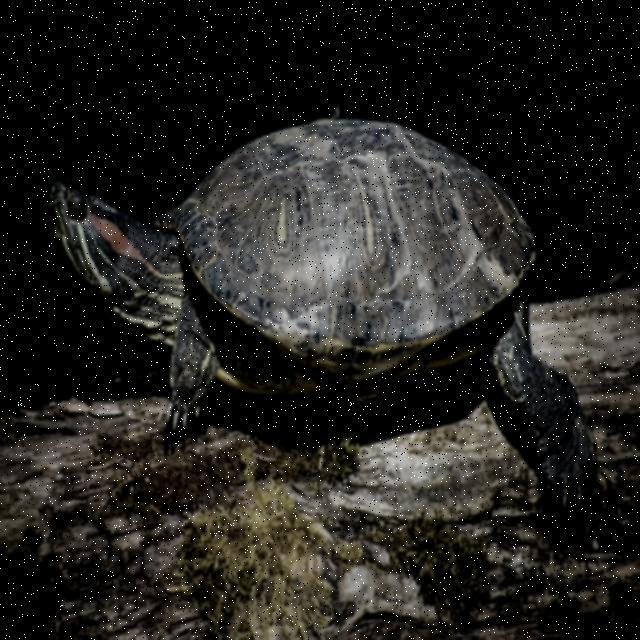tortoise: (30, 117, 630, 486)
